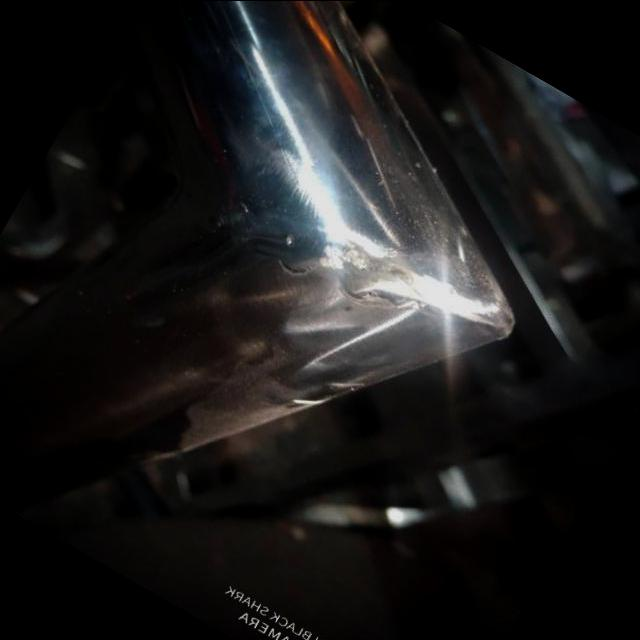defect: (331, 275, 471, 328), (245, 244, 314, 279)
